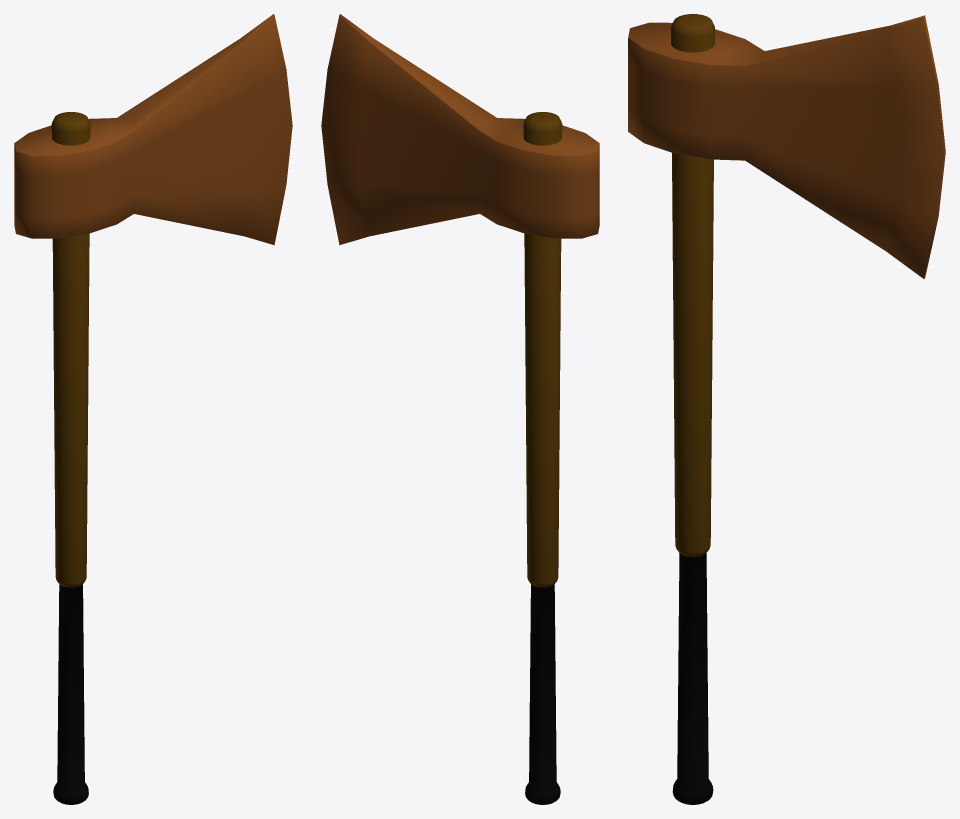
The model's file is OneHand_Axe_Rust.fbx.
3 renders of one model, left to right at view 1: azimuth 30°, elevation 25°; view 2: azimuth 150°, elevation 25°; view 3: azimuth 330°, elevation 25°, orthographic. The views are drawn at different scales.
Parts seen in each view (by area): view 1: OndeHand_Axe_Rust.002; view 2: OndeHand_Axe_Rust.002; view 3: OndeHand_Axe_Rust.002.
Part boxes in pixels (<box>): OndeHand_Axe_Rust.002: <box>14,14,292,804</box>; OndeHand_Axe_Rust.002: <box>321,14,599,804</box>; OndeHand_Axe_Rust.002: <box>628,14,945,804</box>.
Bounding box in the file's own units: 309 × 788 × 69.54.
